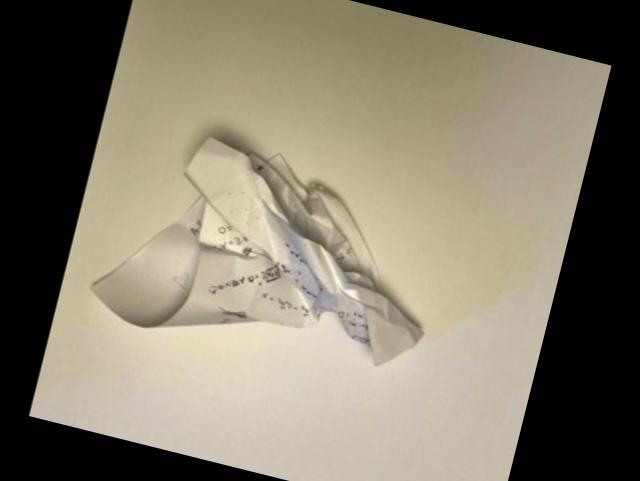cardboard paper: (90, 138, 419, 364)
